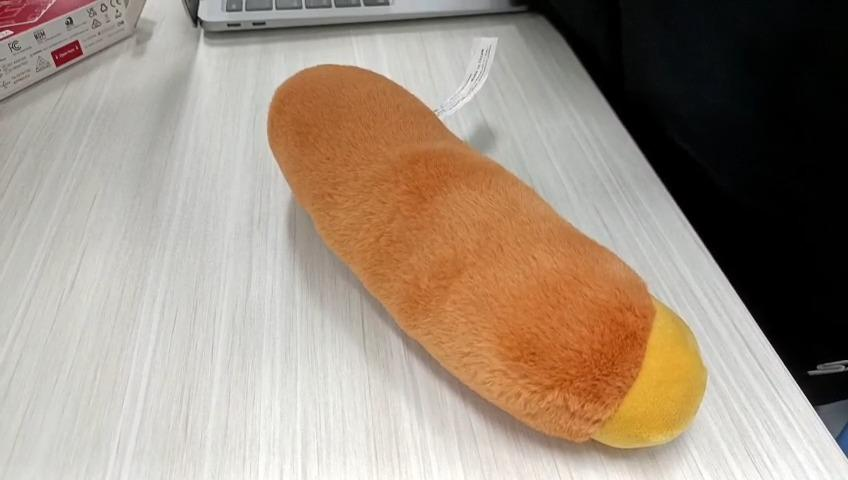hotdog: (268, 63, 708, 450)
